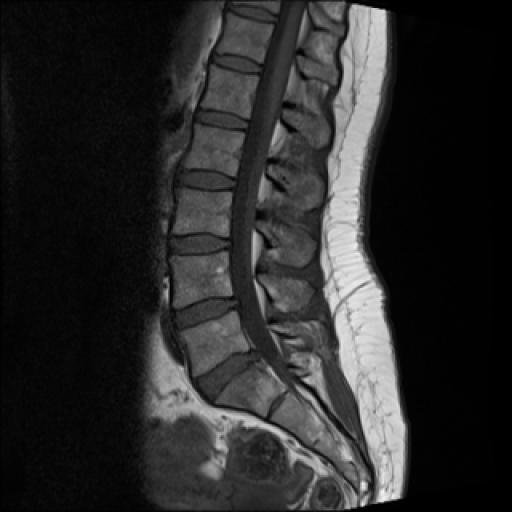L1: (200, 64, 259, 118)
L2: (183, 124, 244, 176)
L3: (172, 190, 232, 236)
L4: (172, 251, 232, 308)
L5: (179, 311, 249, 376)
S1: (216, 360, 285, 418)
